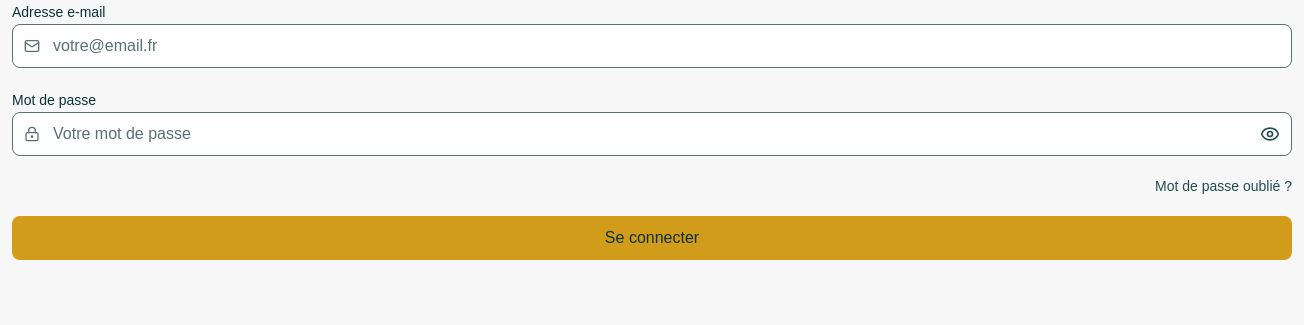
Test: LoginForm › affiche les erreurs de saisie sans appeler l'API
The width and height of the screenshot is (1304, 325).
In the field labelled "Adresse e-mail": (652, 46) [12,24,1292,68], type "invalide"
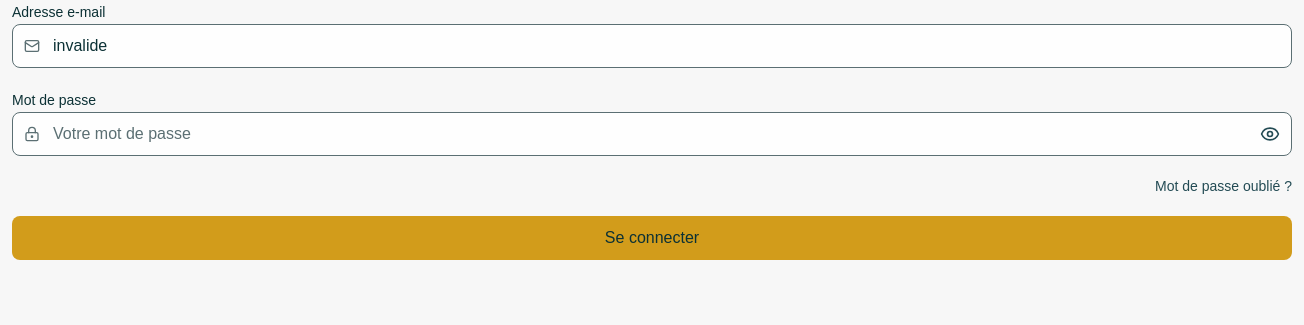
Click the button "Se connecter": (652, 238) [12,216,1292,260]
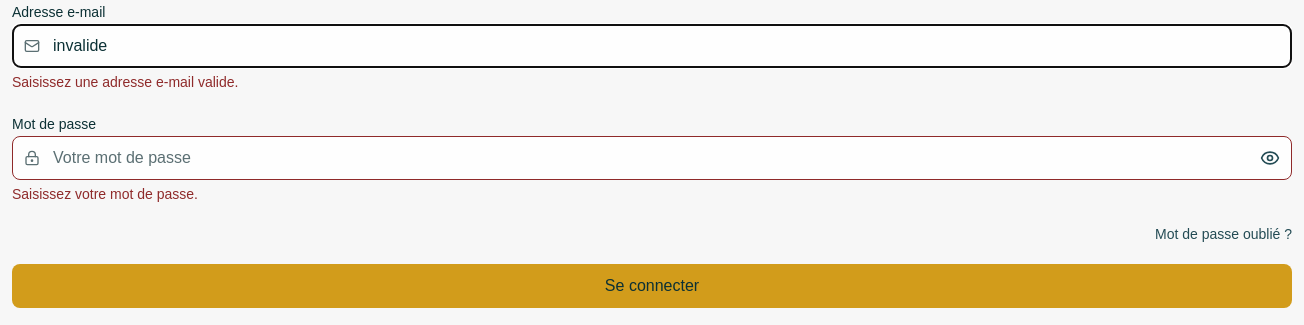
Expected: the text "Saisissez une adresse e-mail valide." is shown, [12,74,238,90]
Expected: the text "Saisissez votre mot de passe." is shown, [12,186,198,202]
